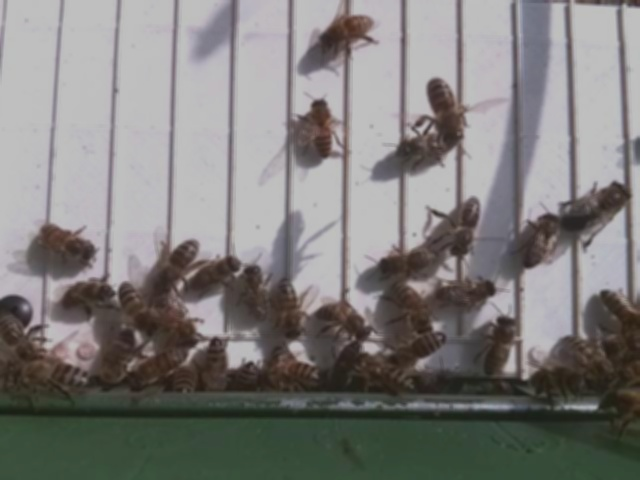Drone: (558, 178, 635, 236)
Worker: (147, 235, 202, 295), (428, 75, 469, 147), (34, 224, 100, 265), (560, 331, 615, 379), (388, 277, 434, 333), (447, 192, 485, 259), (318, 11, 380, 52), (313, 300, 375, 341), (522, 209, 562, 268), (117, 277, 158, 334), (378, 244, 442, 280), (390, 329, 448, 368), (274, 274, 306, 343), (238, 263, 274, 324), (434, 275, 500, 308), (484, 312, 518, 376), (191, 252, 241, 295), (306, 93, 337, 160), (61, 276, 117, 312)
